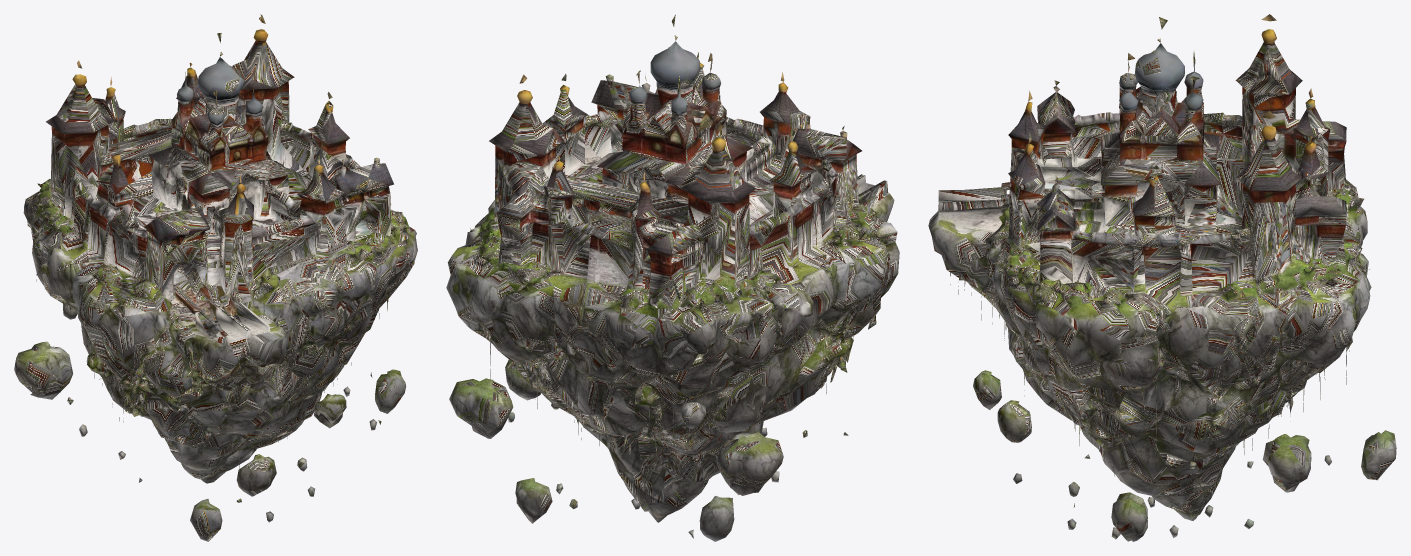
The model's file is Skybound_Citadel.glb.
The picture shows the model from 3 angles, left to right: view 1: azimuth 30°, elevation 25°; view 2: azimuth 150°, elevation 25°; view 3: azimuth 270°, elevation 25°; orthographic projection. The views are drawn at different scales.
Parts seen in each view (by area): view 1: Skybound_Citadel; view 2: Skybound_Citadel; view 3: Skybound_Citadel.
Part boxes in pixels (left/top/right/bottom): Skybound_Citadel: left=14, top=14, right=417, bottom=541; Skybound_Citadel: left=446, top=14, right=899, bottom=541; Skybound_Citadel: left=928, top=14, right=1396, bottom=541.
Bounding box in the file's own units: 1.34 × 1.9 × 1.49.
1 material, 1 textured.
